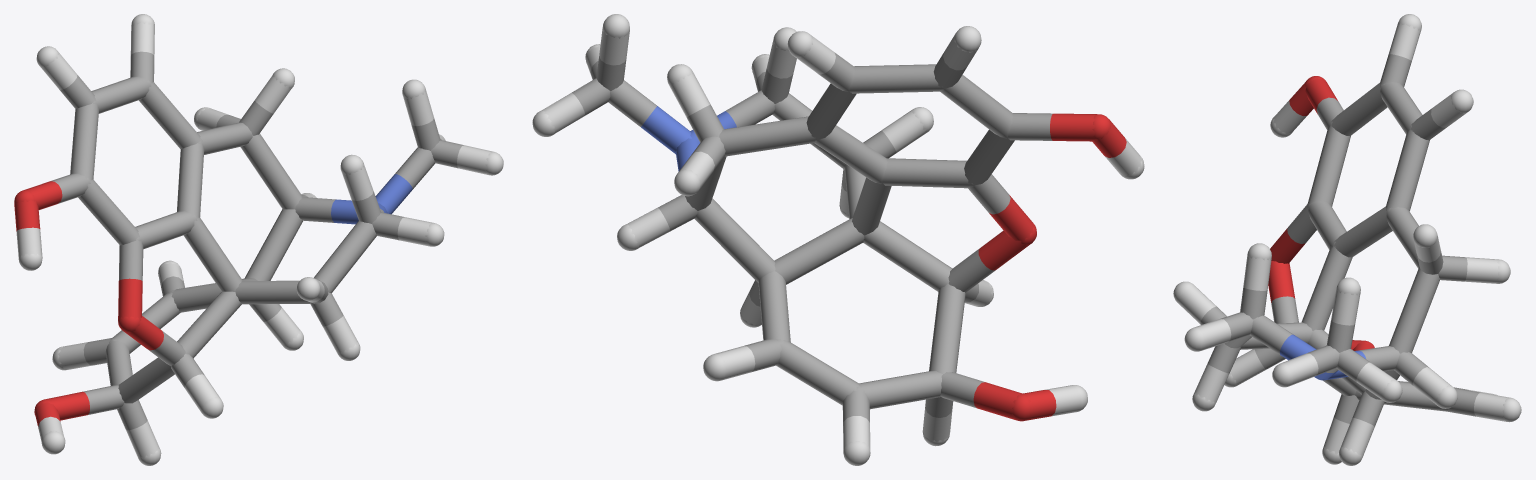
File: morphine-sticks.glb
3 renders of one model, left to right at view 1: azimuth 30°, elevation 25°; view 2: azimuth 150°, elevation 25°; view 3: azimuth 270°, elevation 25°, orthographic. The views are drawn at different scales.
Visible parts, largest first — view 1: morphine-sticks; view 2: morphine-sticks; view 3: morphine-sticks.
Part boxes in pixels (x1=…): morphine-sticks: x1=14, y1=14, x2=503, y2=465; morphine-sticks: x1=532, y1=14, x2=1144, y2=465; morphine-sticks: x1=1173, y1=14, x2=1521, y2=465.
Bounding box in the file's own units: 9.29 × 7.47 × 5.66.
